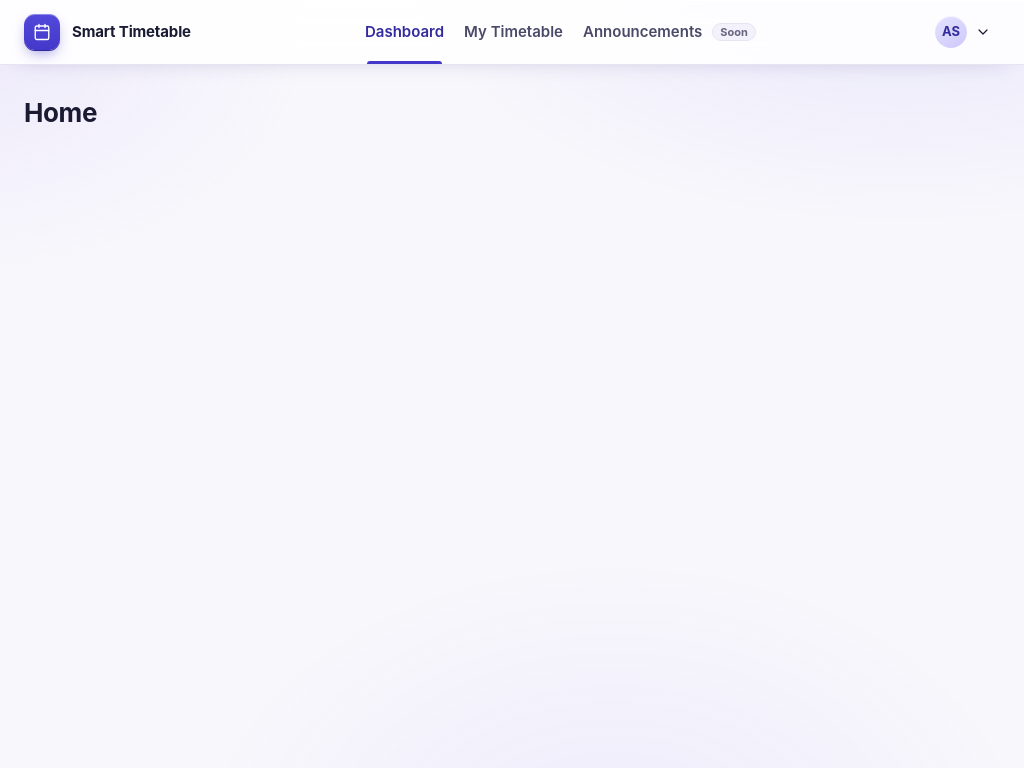
AppShell - signing out › asks for confirmation before signing out, and Cancel keeps the session
The image size is (1024, 768).
Click the button named "Account menu": (965, 32) [930,11,1000,53]
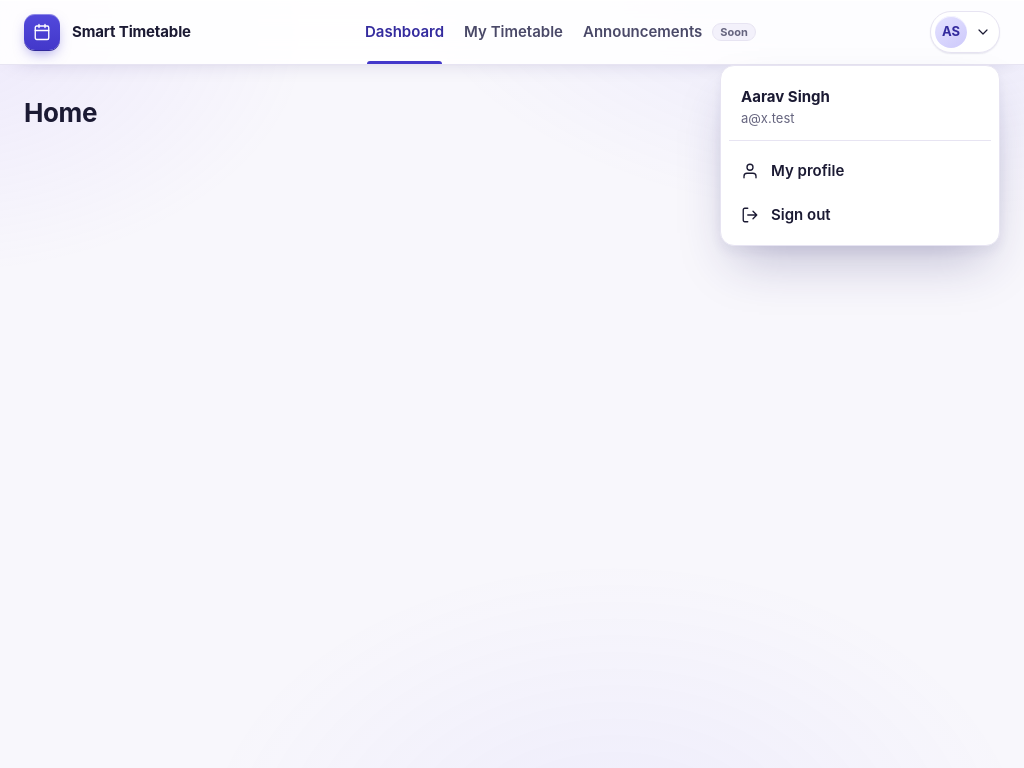
Click the button "Sign out": (801, 214) [729,193,991,237]
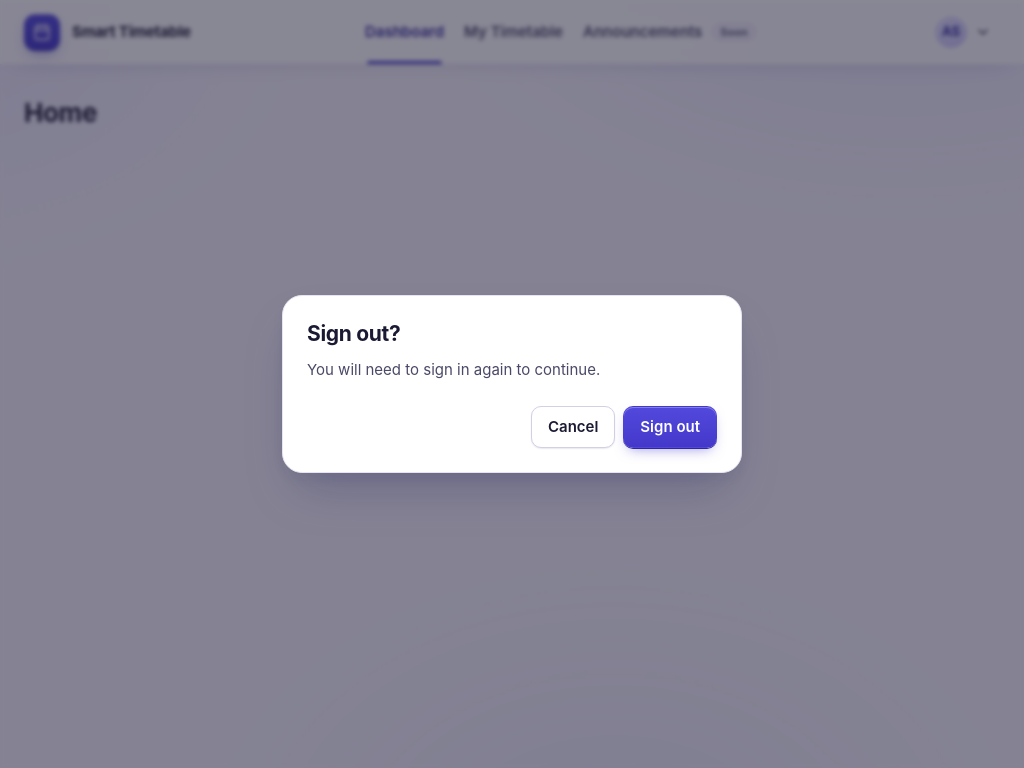
Check: the dialog "Sign out?" is shown, box [282,295,742,473]
Click the button "Cancel": (573, 427) [531,406,615,448]
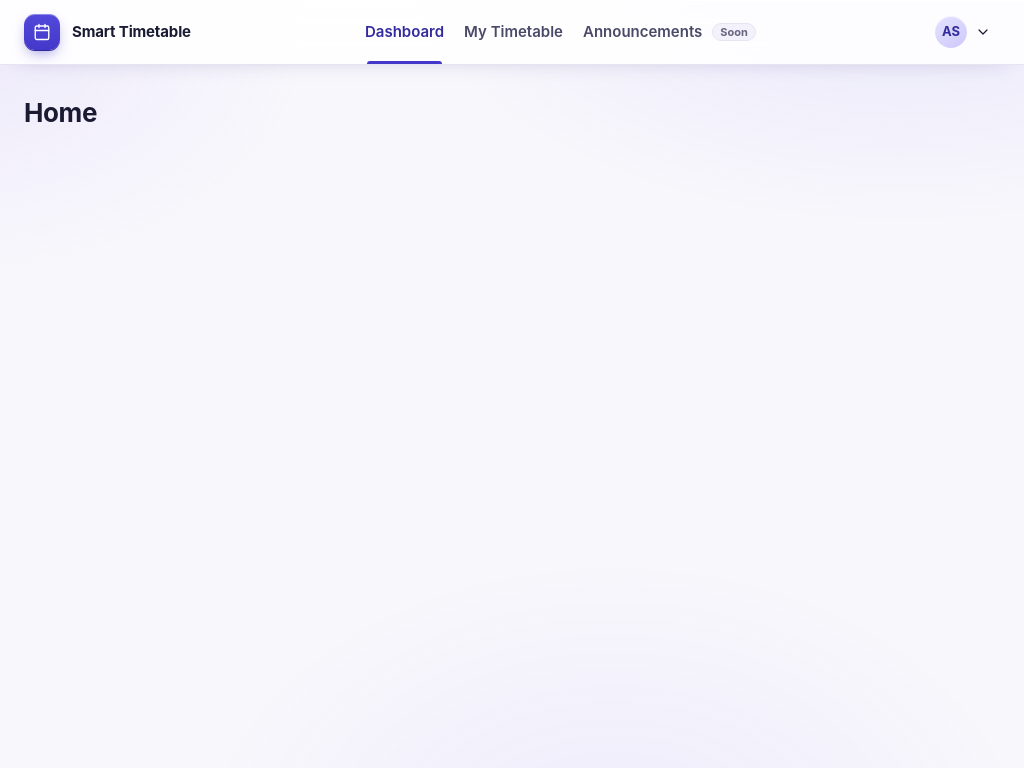
Check: the dialog is gone
